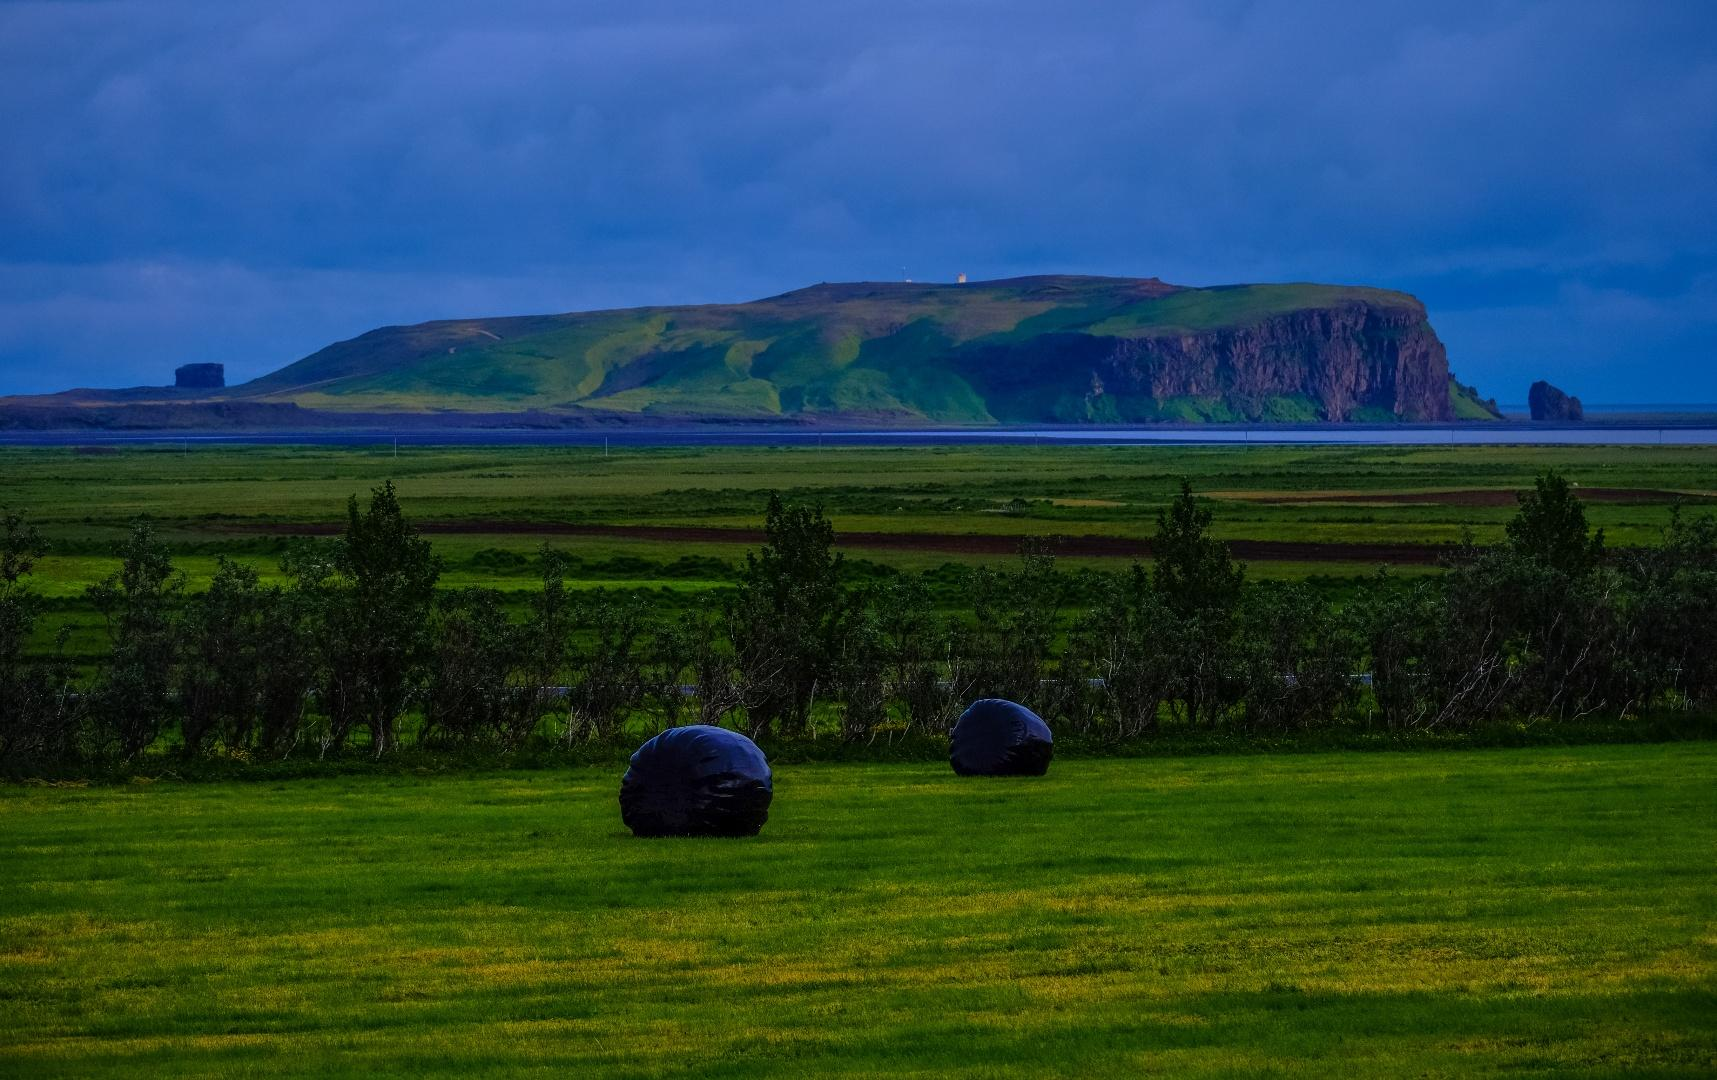metal-cans: (555, 671, 929, 1080)
